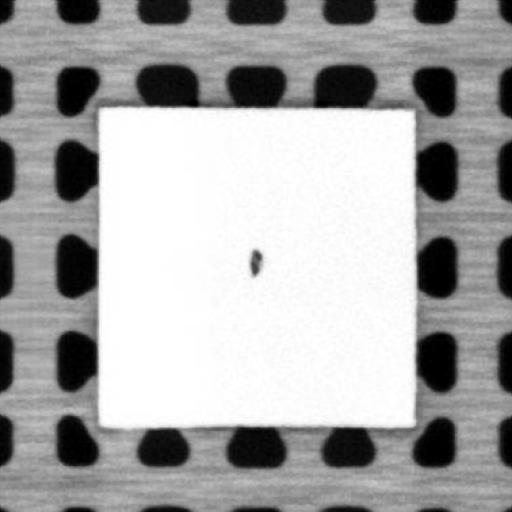DIE_INK: (248, 245, 260, 274)
